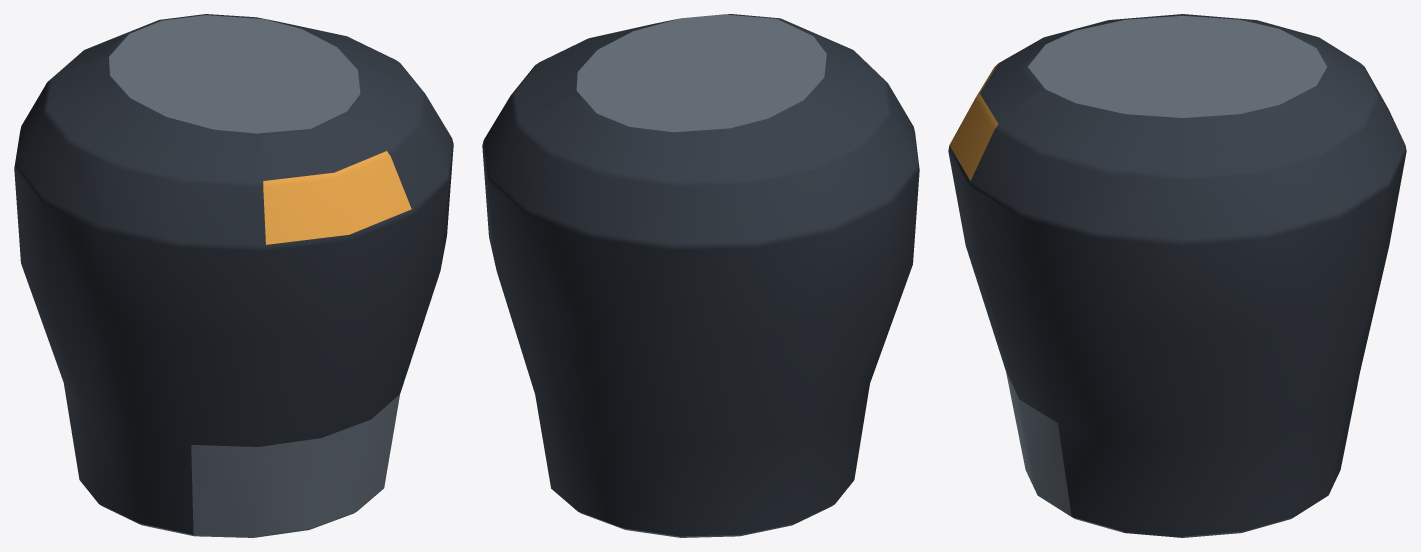
Rendered from torso_light.glb.
The picture shows the model from 3 angles, left to right: view 1: azimuth 30°, elevation 25°; view 2: azimuth 150°, elevation 25°; view 3: azimuth 270°, elevation 25°; orthographic projection.
Parts seen in each view (by area): view 1: torso_light; view 2: torso_light; view 3: torso_light.
Boxes of the visible parts, bbox=[...] form: torso_light: bbox=[14, 14, 453, 537]; torso_light: bbox=[482, 14, 919, 537]; torso_light: bbox=[948, 14, 1406, 537].
Bounding box in the file's own units: 0.9993 × 1 × 1.02.
